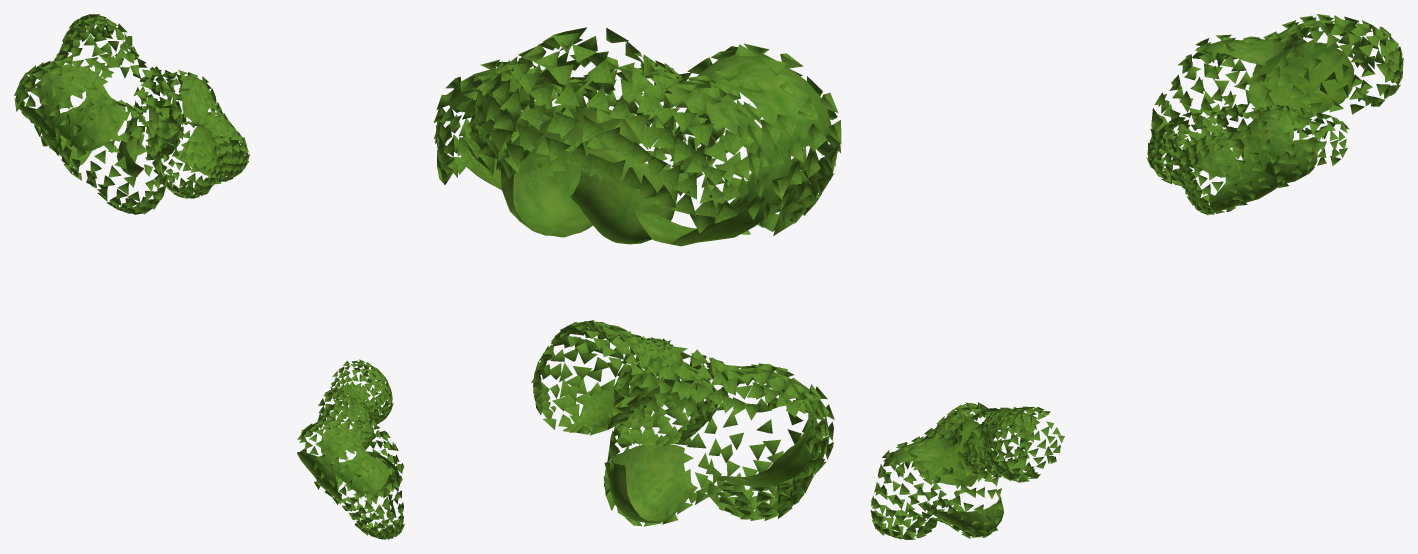
The model's file is SM_ENV_LKNVLD_TreeSet_R.FBX.
3 renders of one model, left to right at view 1: azimuth 30°, elevation 25°; view 2: azimuth 150°, elevation 25°; view 3: azimuth 270°, elevation 25°, orthographic. The views are drawn at different scales.
Visible parts, largest first — view 1: SM_ENV_LKNVLD_TreeSet_R; view 2: SM_ENV_LKNVLD_TreeSet_R; view 3: SM_ENV_LKNVLD_TreeSet_R.
Boxes of the visible parts, x1=… form: SM_ENV_LKNVLD_TreeSet_R: x1=14, y1=14, x2=404, y2=539; SM_ENV_LKNVLD_TreeSet_R: x1=433, y1=27, x2=841, y2=526; SM_ENV_LKNVLD_TreeSet_R: x1=870, y1=14, x2=1403, y2=539.
Size of the model in its own units: 2265 by 3682 by 3829.
